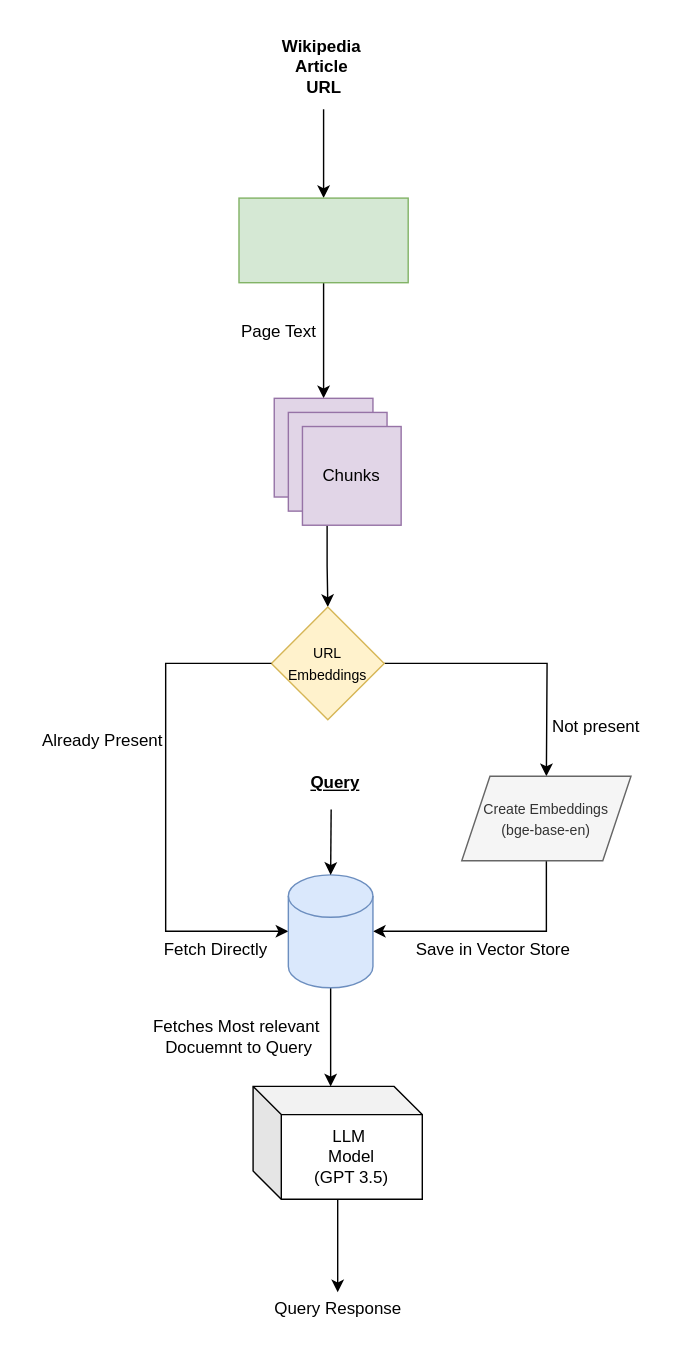
Image size: 682x1371. Some labels were removed from this diagram. The shapes that lost their labels are listed below. From the top down, each one's centre as x and y in pixels, then its label:
At [323,240]: "Wikipedia Scraper".
At [330,930]: "Vector store FAISS".
